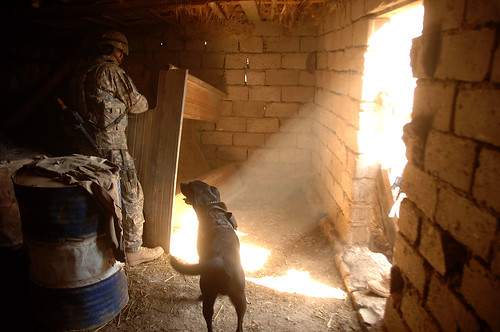animal: (170, 176, 249, 325)
soldier: (62, 27, 164, 264)
